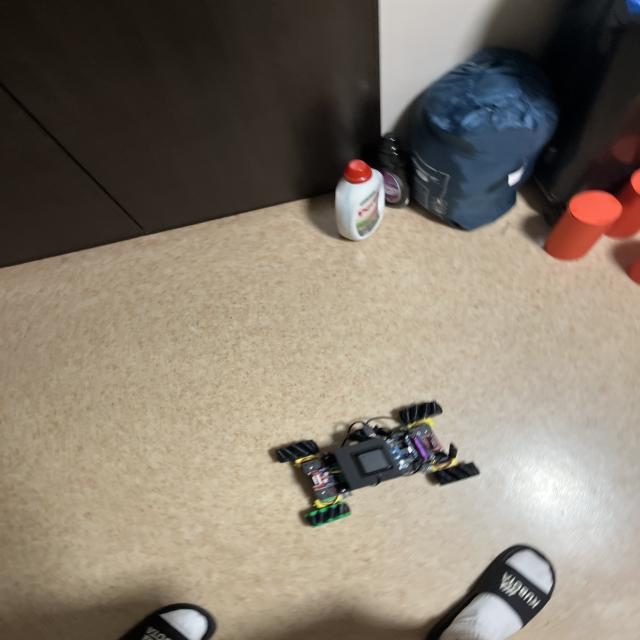robot: (273, 401, 479, 526)
